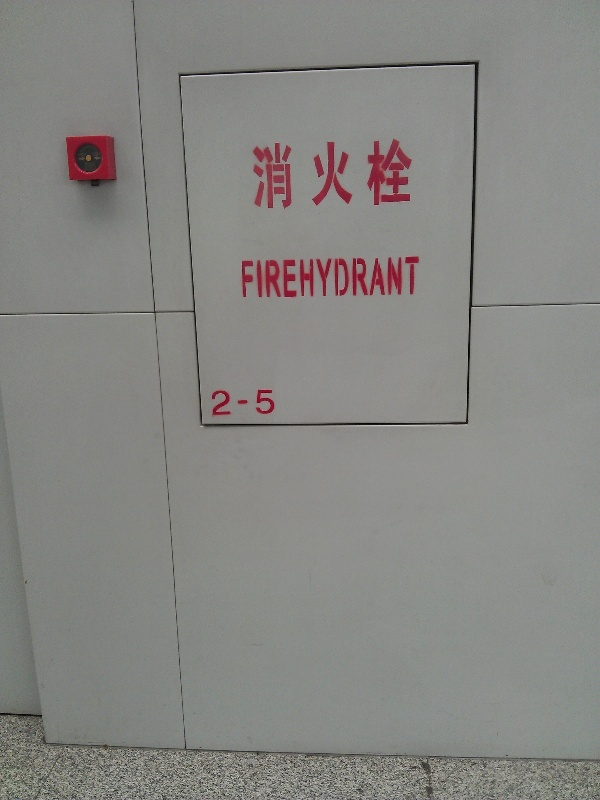text: (257, 136, 272, 211), (273, 136, 288, 211), (289, 136, 304, 211), (305, 136, 320, 211), (321, 136, 336, 211), (337, 136, 352, 211), (353, 136, 368, 211), (369, 136, 384, 211), (385, 136, 400, 211), (401, 136, 415, 211), (241, 255, 256, 301), (257, 255, 272, 301), (273, 255, 288, 301), (289, 255, 304, 301), (305, 255, 320, 301), (321, 255, 336, 301), (337, 255, 352, 301), (353, 255, 368, 301), (369, 255, 384, 301), (385, 255, 400, 301), (401, 255, 416, 301), (209, 388, 224, 417), (225, 388, 240, 417), (241, 388, 256, 417), (257, 388, 272, 417), (251, 136, 256, 211), (417, 255, 422, 301), (273, 388, 276, 417), (239, 255, 240, 301)
